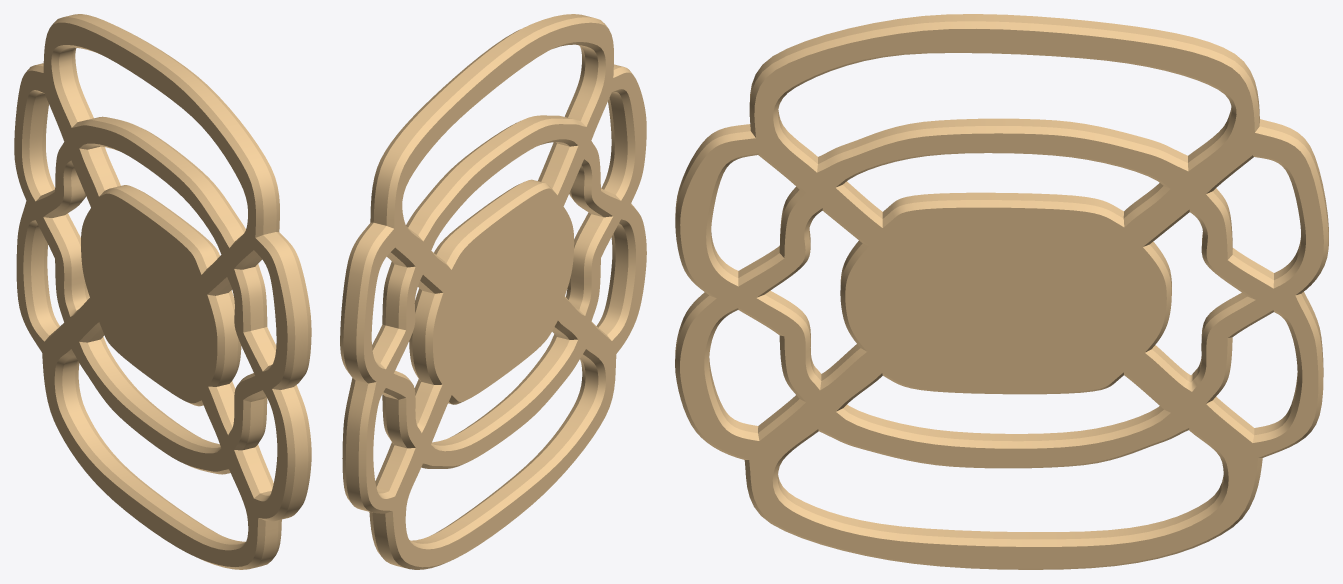
File: kguard.glb
3 views of the same model, side by side, from view 1: azimuth 30°, elevation 25°; view 2: azimuth 150°, elevation 25°; view 3: azimuth 270°, elevation 25° (orthographic). The views are drawn at different scales.
Parts seen in each view (by area): view 1: tsuba.004_tsuba.006; view 2: tsuba.004_tsuba.006; view 3: tsuba.004_tsuba.006.
Boxes of the visible parts, x1,y1,x2,y2 form: tsuba.004_tsuba.006: [14, 14, 311, 569]; tsuba.004_tsuba.006: [340, 14, 646, 569]; tsuba.004_tsuba.006: [675, 14, 1328, 569].
Size of the model in its own units: 0.0452 by 0.7197 by 0.7776.
